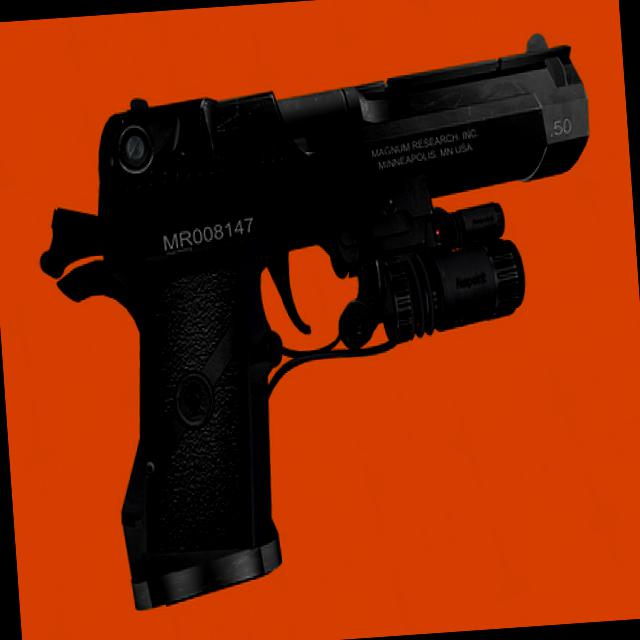handgun: (24, 28, 619, 616)
